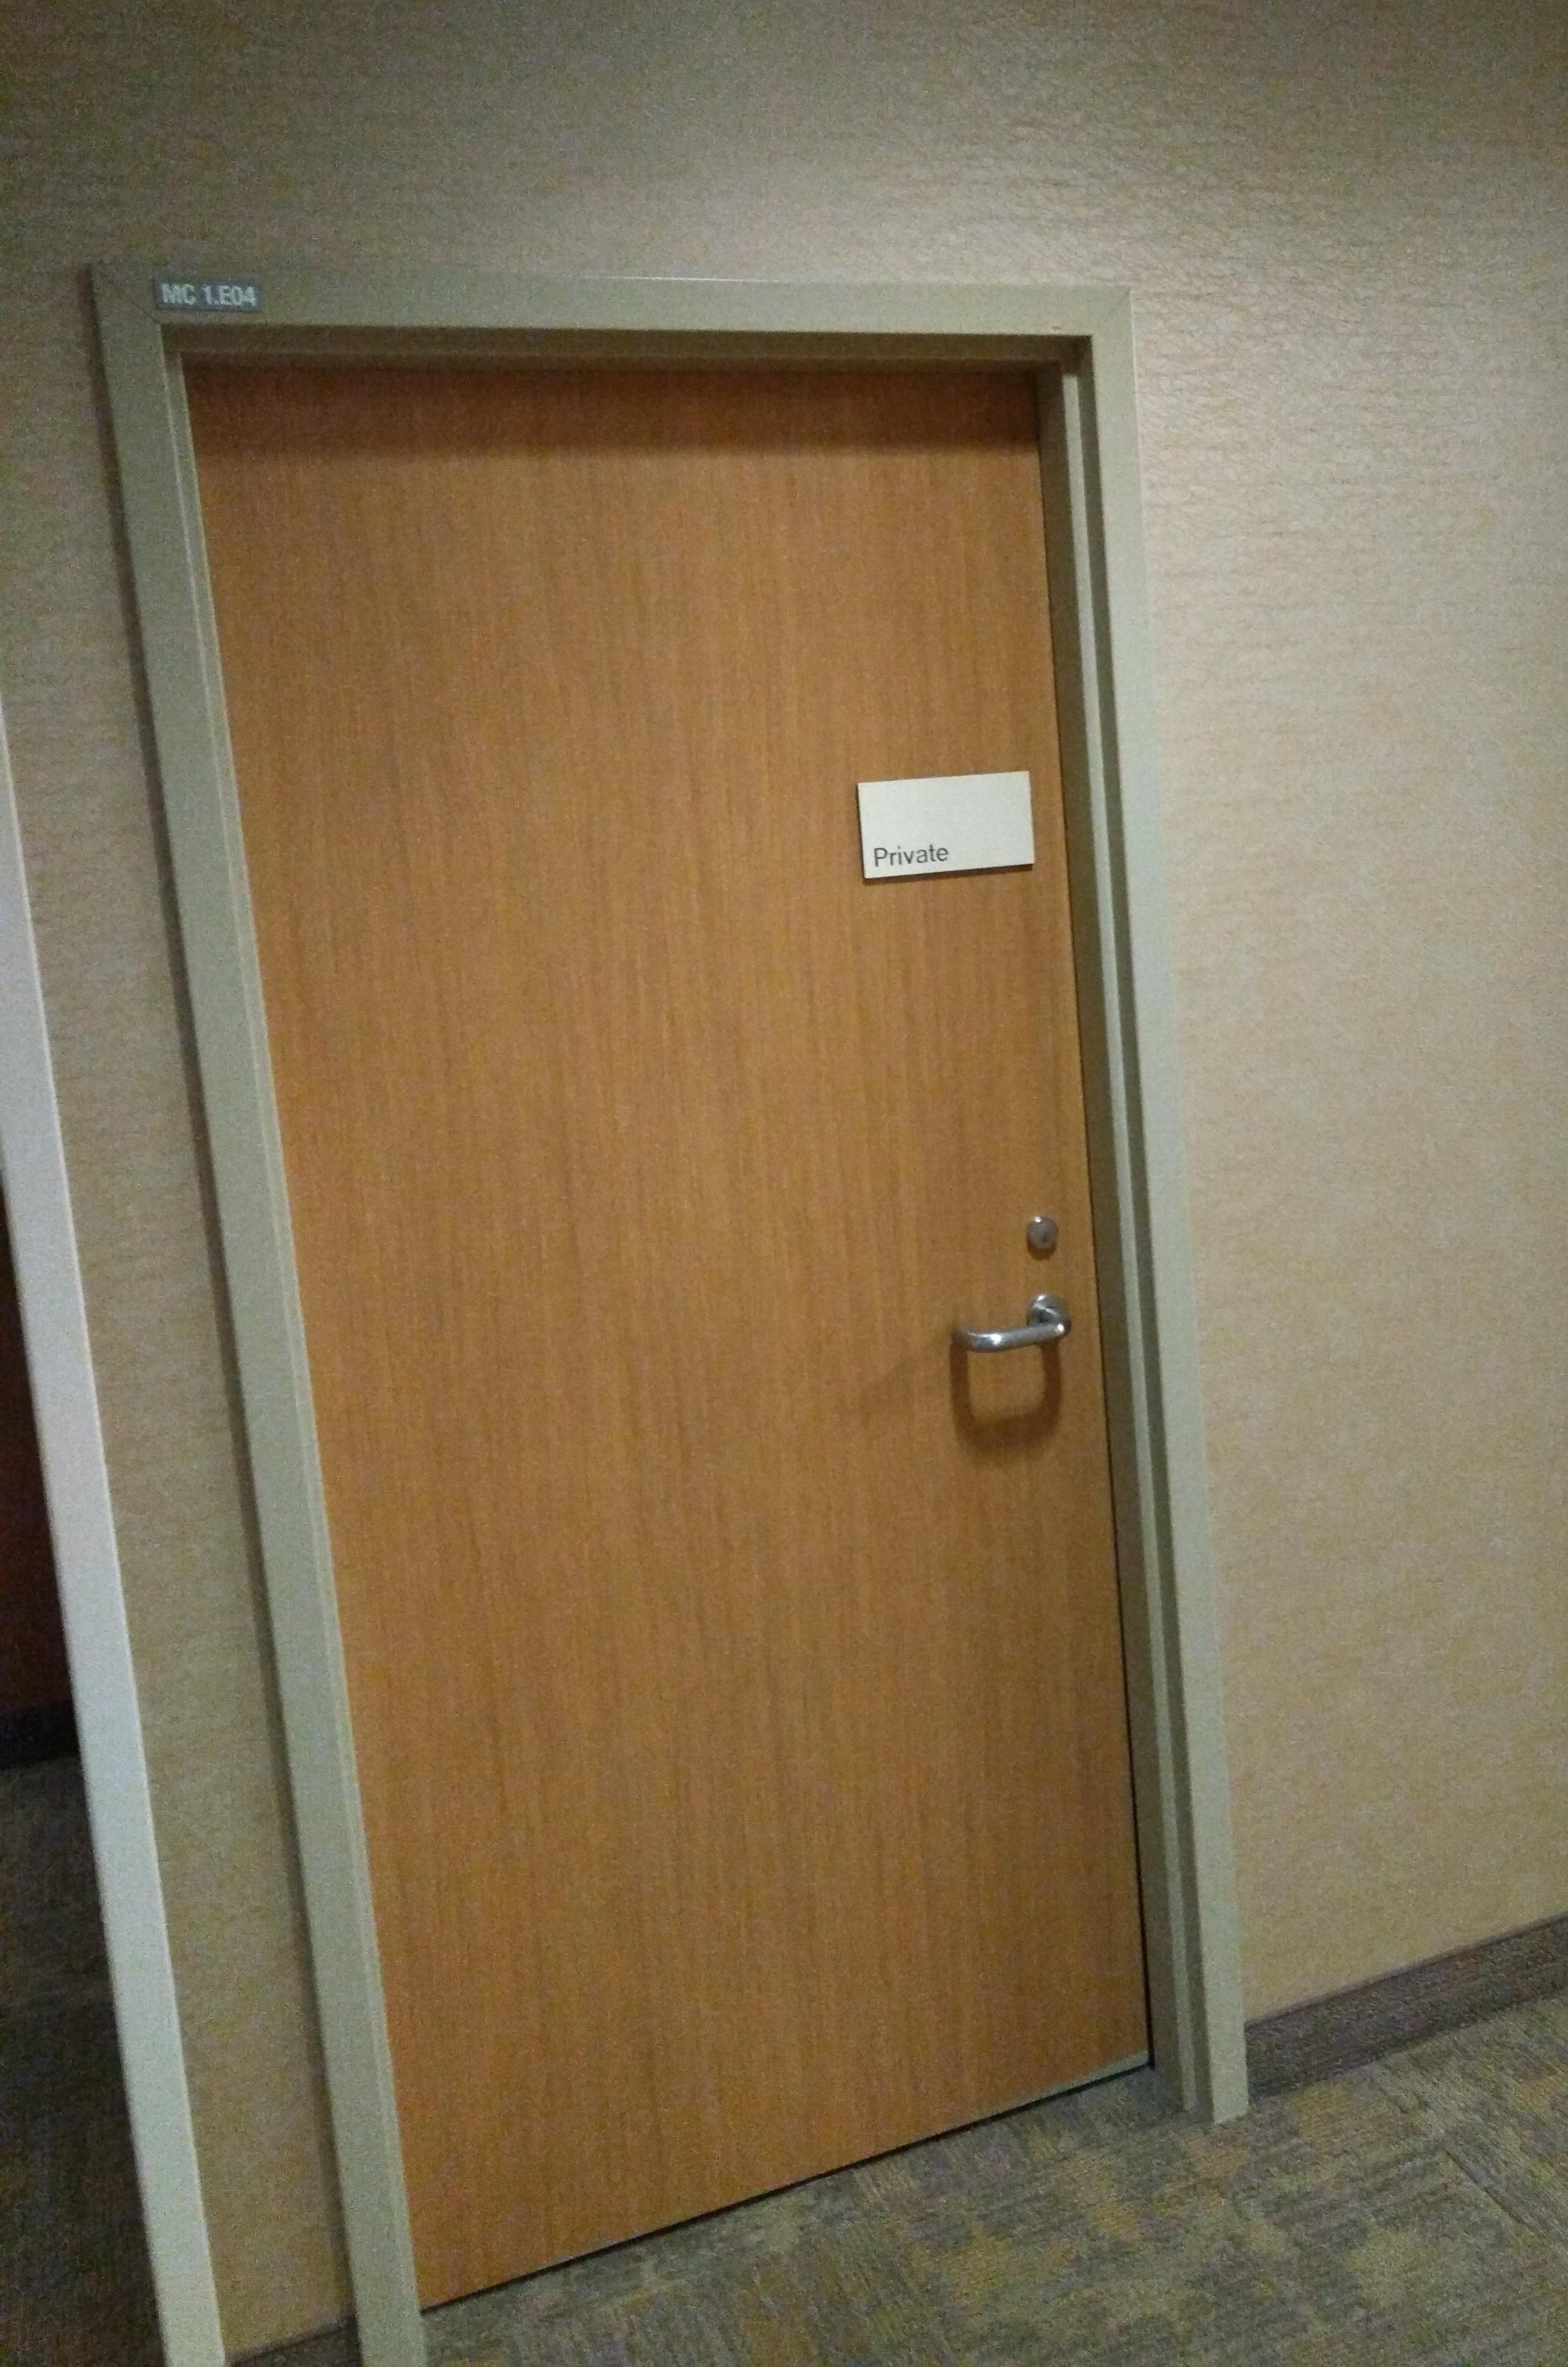door: (332, 404, 1097, 2187)
handle: (966, 1299, 1067, 1390)
